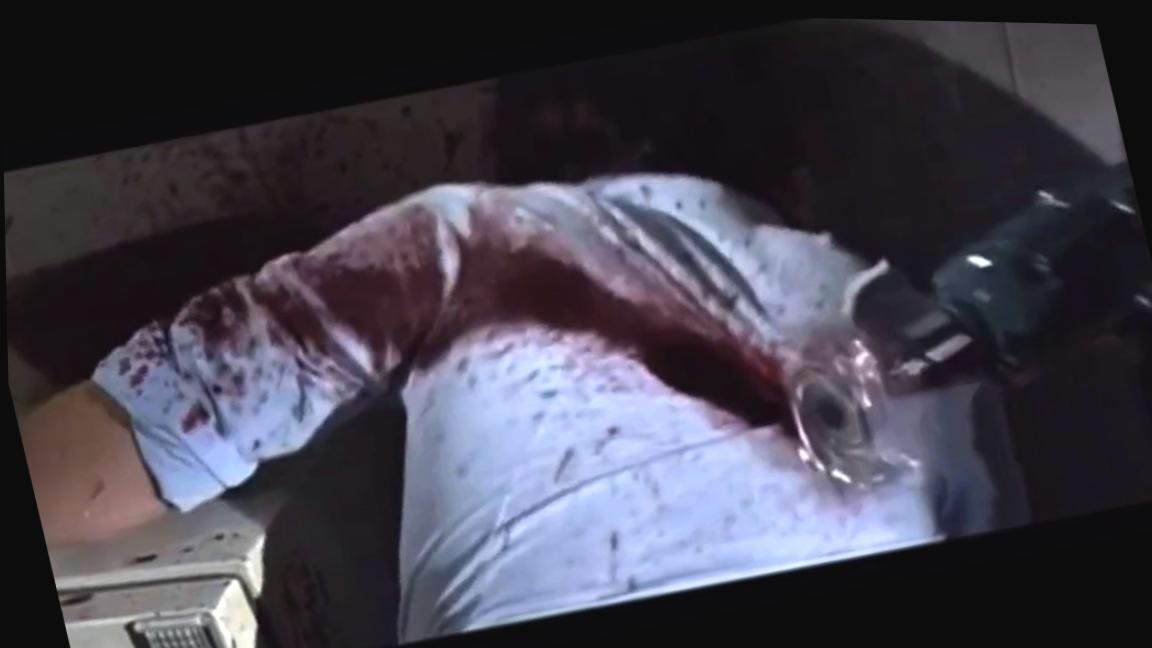Fire: (3, 80, 862, 491), (44, 454, 351, 648)
